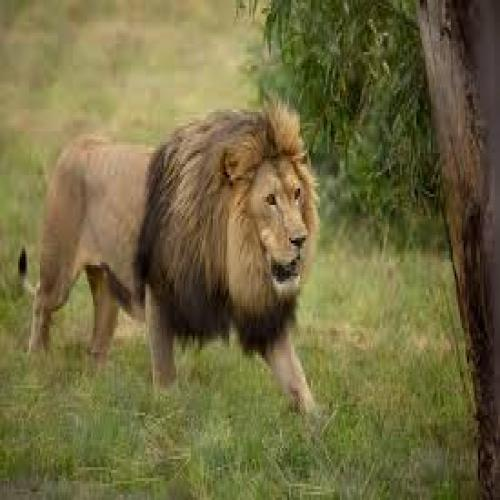lion-endangered: (17, 101, 321, 423)
